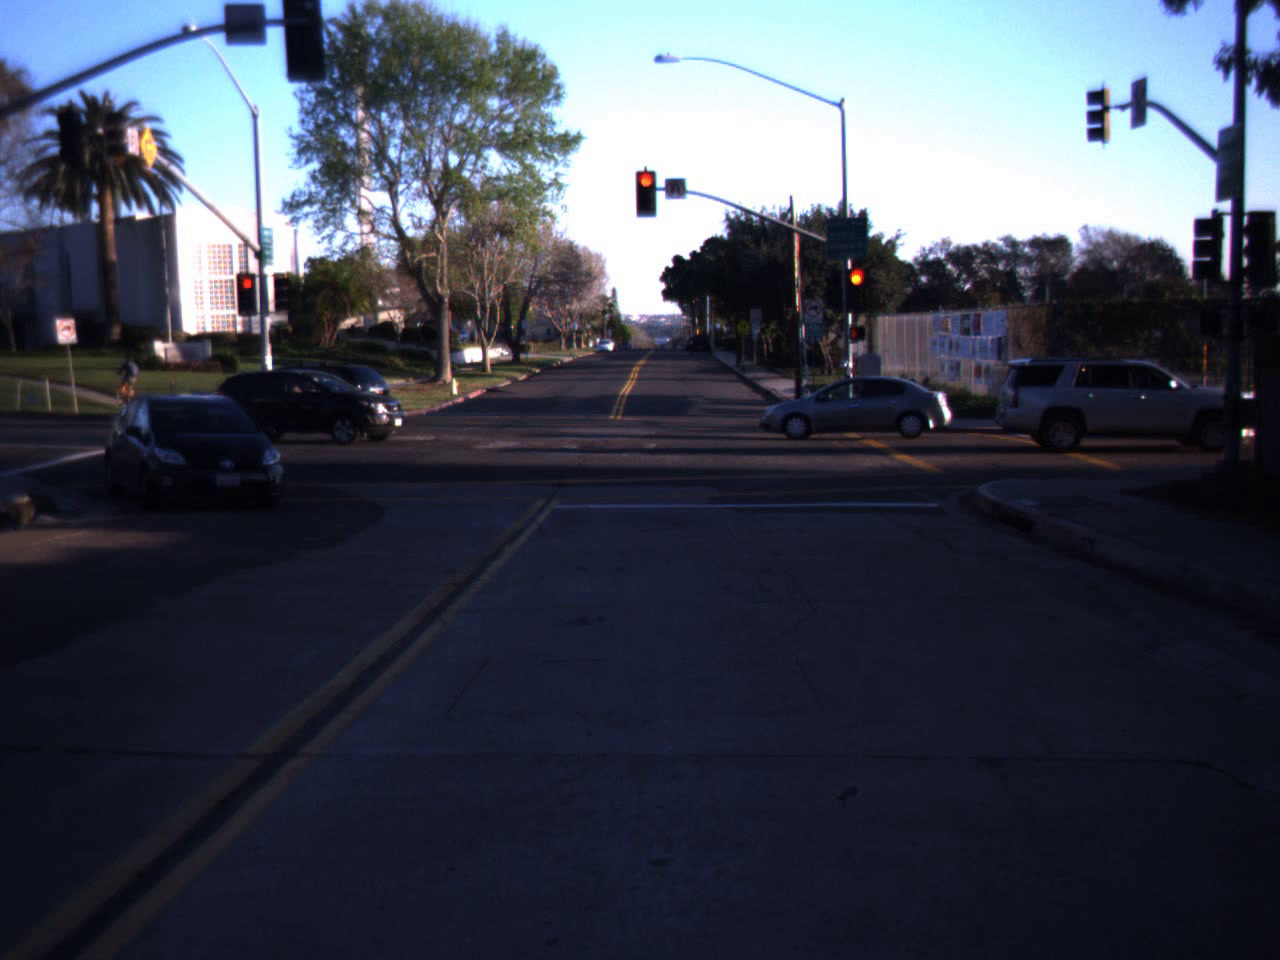stop: (840, 263, 873, 326), (630, 168, 663, 222), (237, 276, 258, 312)
